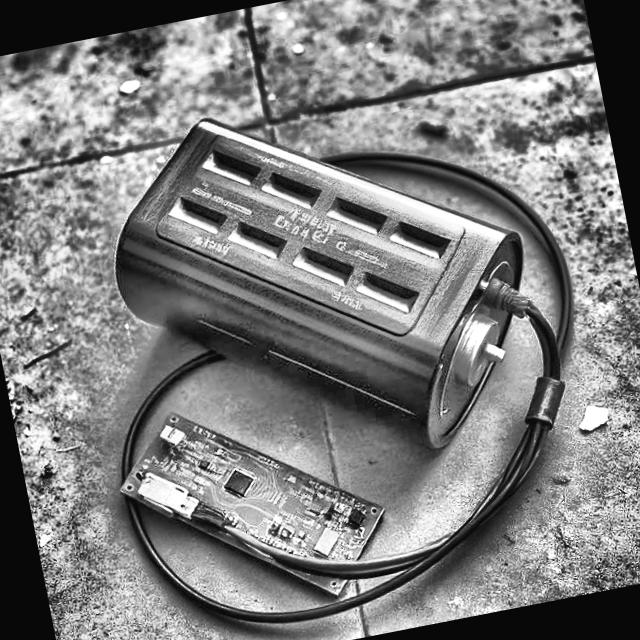Battery: (87, 66, 558, 508)
Cable: (64, 105, 625, 640)
PCB: (103, 373, 399, 640)
